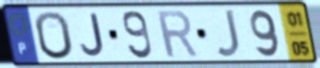9: (248, 8, 281, 59), (122, 9, 154, 59)
J: (214, 7, 243, 59), (78, 11, 107, 58)
O: (33, 9, 76, 61)
R: (154, 8, 201, 61)
